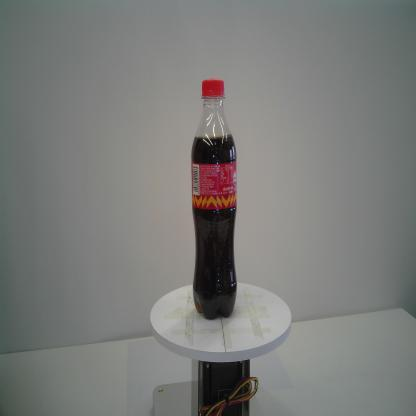Drink: (189, 78, 239, 323)
